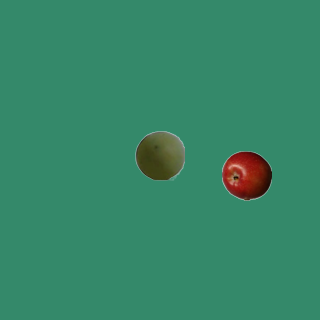Apple Braeburn: (221, 150, 271, 200)
Grape White 4: (134, 130, 184, 180)
